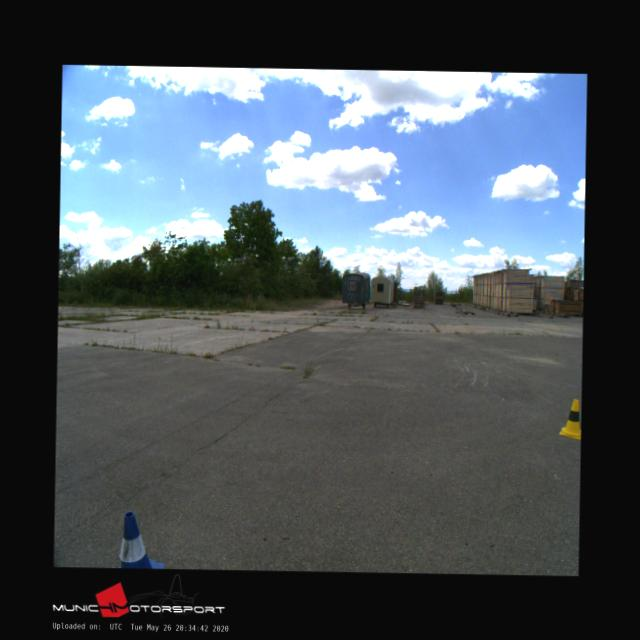blue_cone: (118, 511, 164, 568)
yellow_cone: (559, 398, 581, 438)
